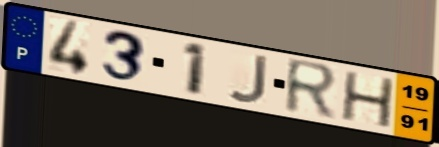1: (180, 41, 207, 100)
3: (98, 28, 151, 85)
4: (46, 18, 93, 79)
H: (338, 70, 397, 131)
J: (225, 53, 271, 106)
R: (282, 56, 342, 123)
